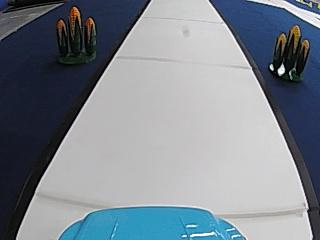corn: (49, 5, 103, 67), (267, 25, 311, 81)
